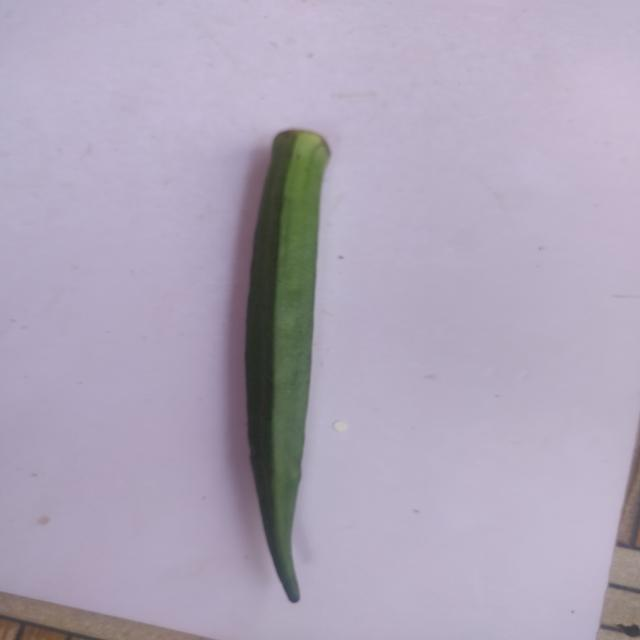Ladies Finger: (220, 114, 390, 623)
